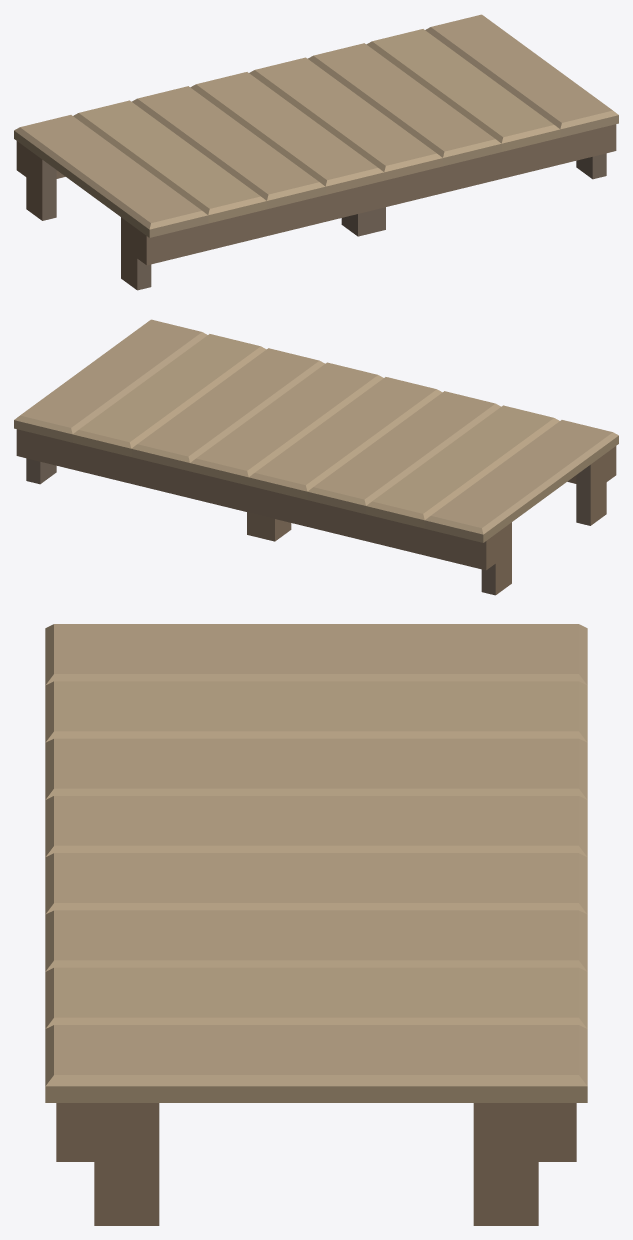
Rendered from walk.glb.
The picture shows the model from 3 angles, top to bottom: view 1: azimuth 30°, elevation 25°; view 2: azimuth 150°, elevation 25°; view 3: azimuth 270°, elevation 25°; orthographic projection. The views are drawn at different scales.
Visible parts, largest first — view 1: walk; view 2: walk; view 3: walk.
Boxes of the visible parts, box(x1,y1,x2,y2) form: walk: box(14, 14, 618, 290); walk: box(14, 319, 618, 595); walk: box(45, 624, 587, 1225).
Size of the model in its own units: 2 by 0.3 by 1.
